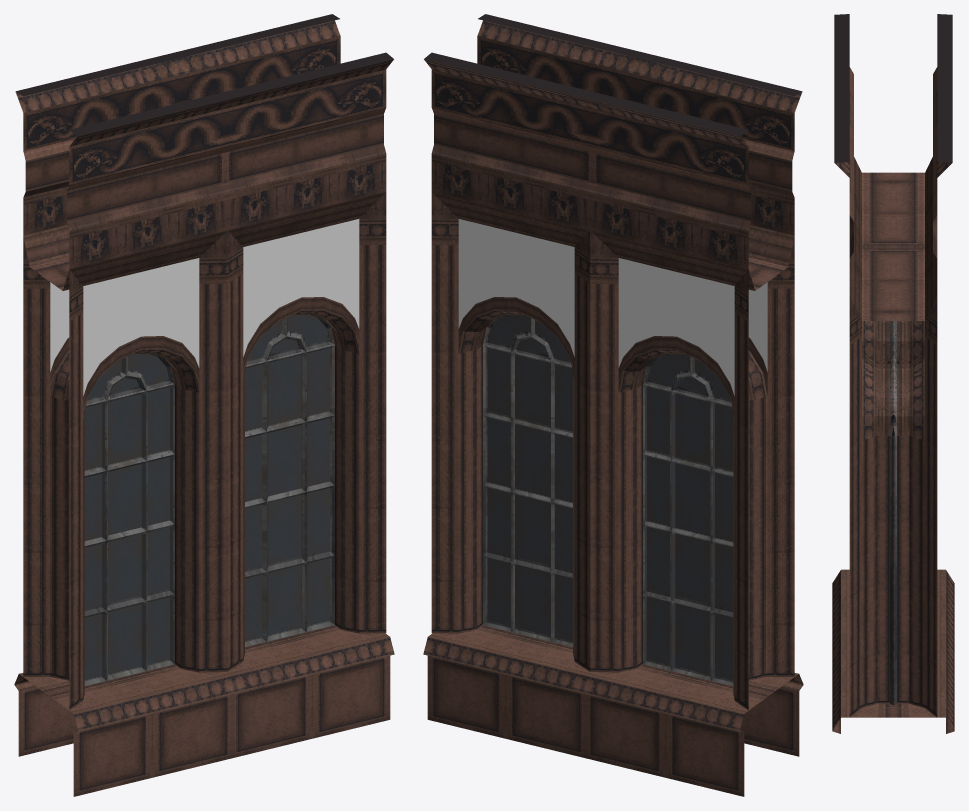
Rendered from sm_window_wall_02.glb.
The picture shows the model from 3 angles, left to right: view 1: azimuth 30°, elevation 25°; view 2: azimuth 150°, elevation 25°; view 3: azimuth 270°, elevation 25°; orthographic projection. The views are drawn at different scales.
Visible parts, largest first — view 1: arch_big_003.002, sm_arch_wall_01.014, arch_big_003.003, arch_big_003.004; view 2: arch_big_003.002, sm_arch_wall_01.014, arch_big_003.003, arch_big_003.004; view 3: arch_big_003.002, sm_arch_wall_01.014, arch_big_003.004.
Boxes of the visible parts, x1,y1,x2,y2 form: arch_big_003.002: [14, 192, 394, 796]; sm_arch_wall_01.014: [15, 14, 393, 290]; arch_big_003.003: [84, 314, 329, 680]; arch_big_003.004: [84, 314, 334, 685]; arch_big_003.002: [423, 192, 803, 796]; sm_arch_wall_01.014: [424, 14, 802, 290]; arch_big_003.003: [486, 314, 733, 682]; arch_big_003.004: [483, 317, 733, 685]; arch_big_003.002: [832, 296, 954, 733]; sm_arch_wall_01.014: [834, 14, 952, 320]; arch_big_003.004: [890, 321, 896, 704].
Size of what is drawn, in the model's own units: 4 by 8 by 1.4.
4 materials, 3 textured.
